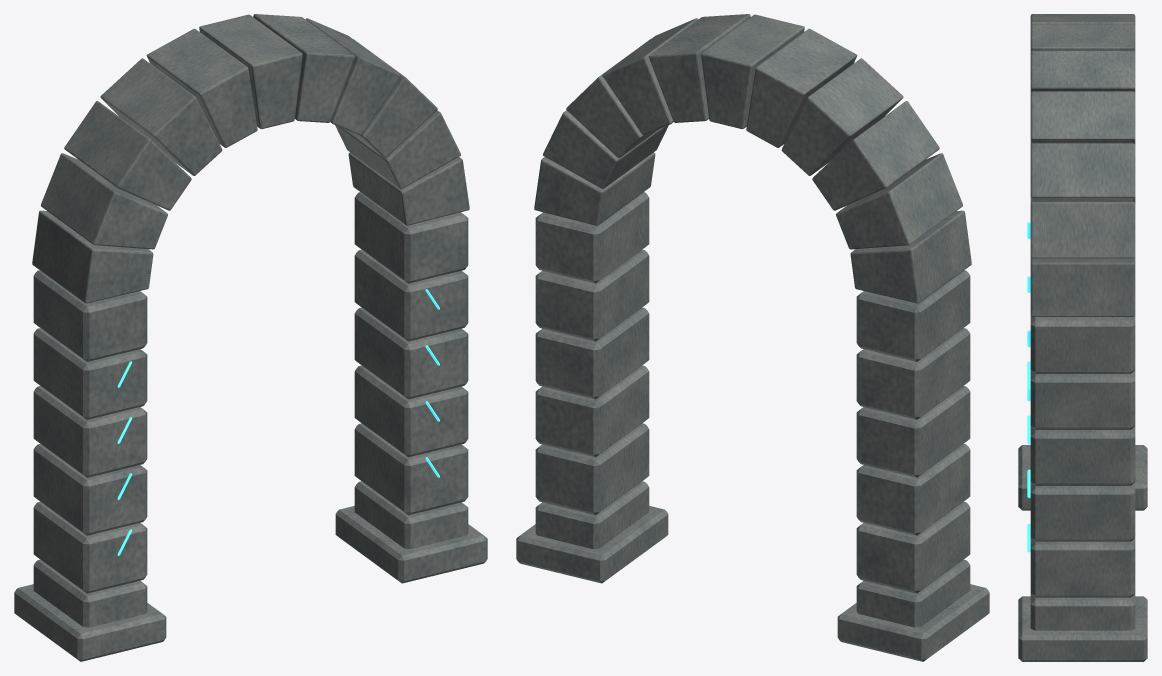
File: dungeon_gate.glb
The picture shows the model from 3 angles, left to right: view 1: azimuth 30°, elevation 25°; view 2: azimuth 150°, elevation 25°; view 3: azimuth 270°, elevation 25°; orthographic projection. The views are drawn at different scales.
Visible parts, largest first — view 1: DungeonGate_Mesh; view 2: DungeonGate_Mesh; view 3: DungeonGate_Mesh.
Part boxes in pixels (x1,y1,x2,y2): DungeonGate_Mesh: [14, 14, 487, 661]; DungeonGate_Mesh: [516, 14, 989, 661]; DungeonGate_Mesh: [1018, 14, 1147, 661].
Size of the model in its own units: 4.6 by 5.89 by 1.3.
Materials: 1 (1 with a texture image).
